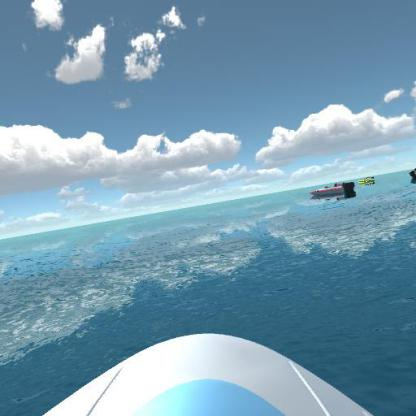usv2: (358, 172, 378, 189)
usv3: (310, 180, 356, 203)
